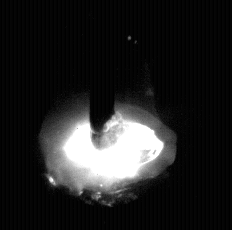arame: (91, 0, 116, 149)
poca: (39, 0, 177, 230)
